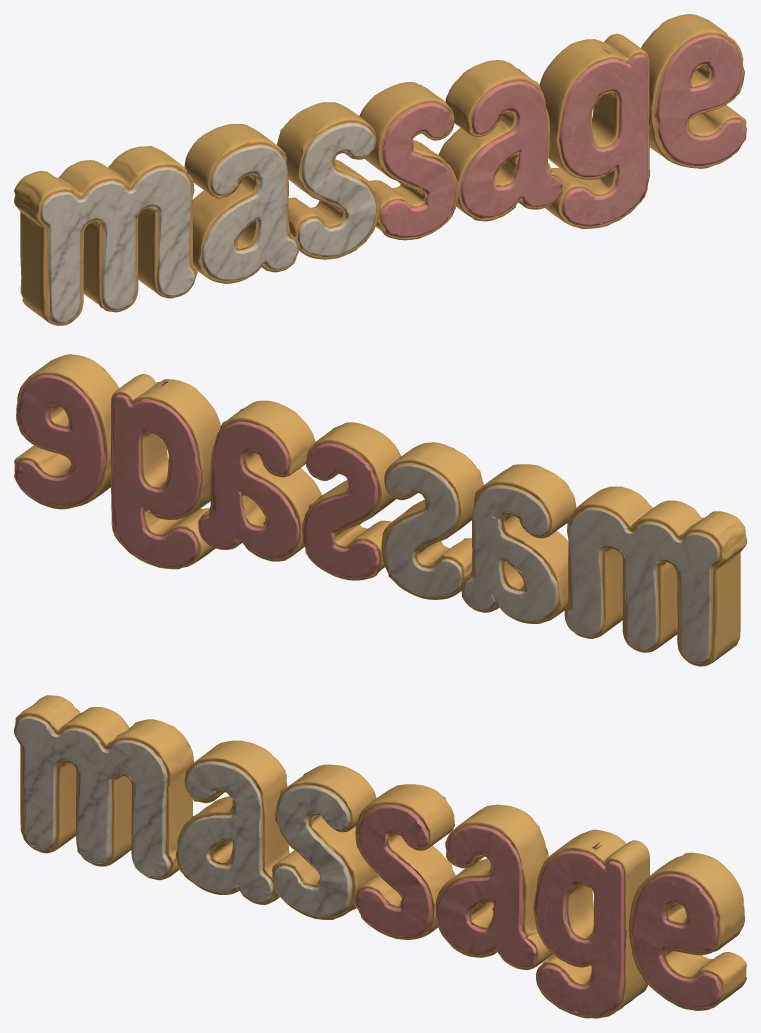
The model's file is Meshy_AI_Marble_Pink_Massage_T_1118185141_texture.glb.
3 views of the same model, one above another, from view 1: azimuth 30°, elevation 25°; view 2: azimuth 150°, elevation 25°; view 3: azimuth 330°, elevation 25° (orthographic).
Visible parts, largest first — view 1: geometry_0; view 2: geometry_0; view 3: geometry_0.
Part boxes in pixels (x1,y1,x2,y2): geometry_0: [14, 14, 746, 325]; geometry_0: [14, 354, 746, 666]; geometry_0: [14, 695, 746, 1018].
Bounding box in the file's own units: 0.9551 × 0.2212 × 0.0674.
1 material, 1 textured.
